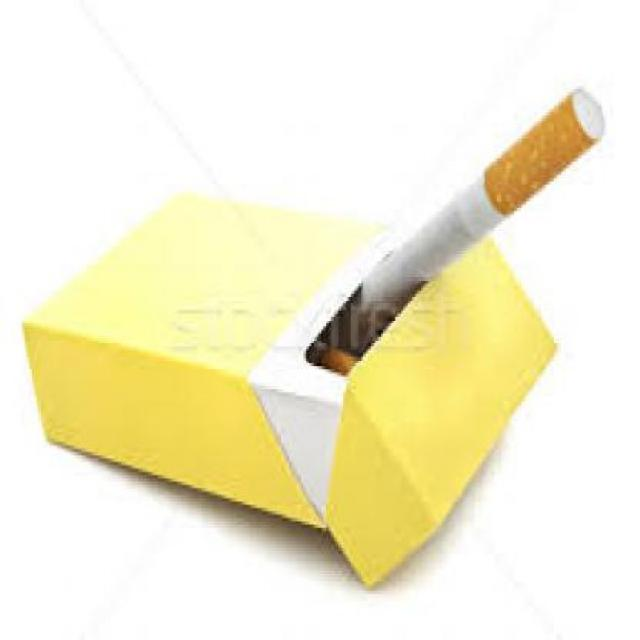cigarette: (350, 69, 608, 314)
